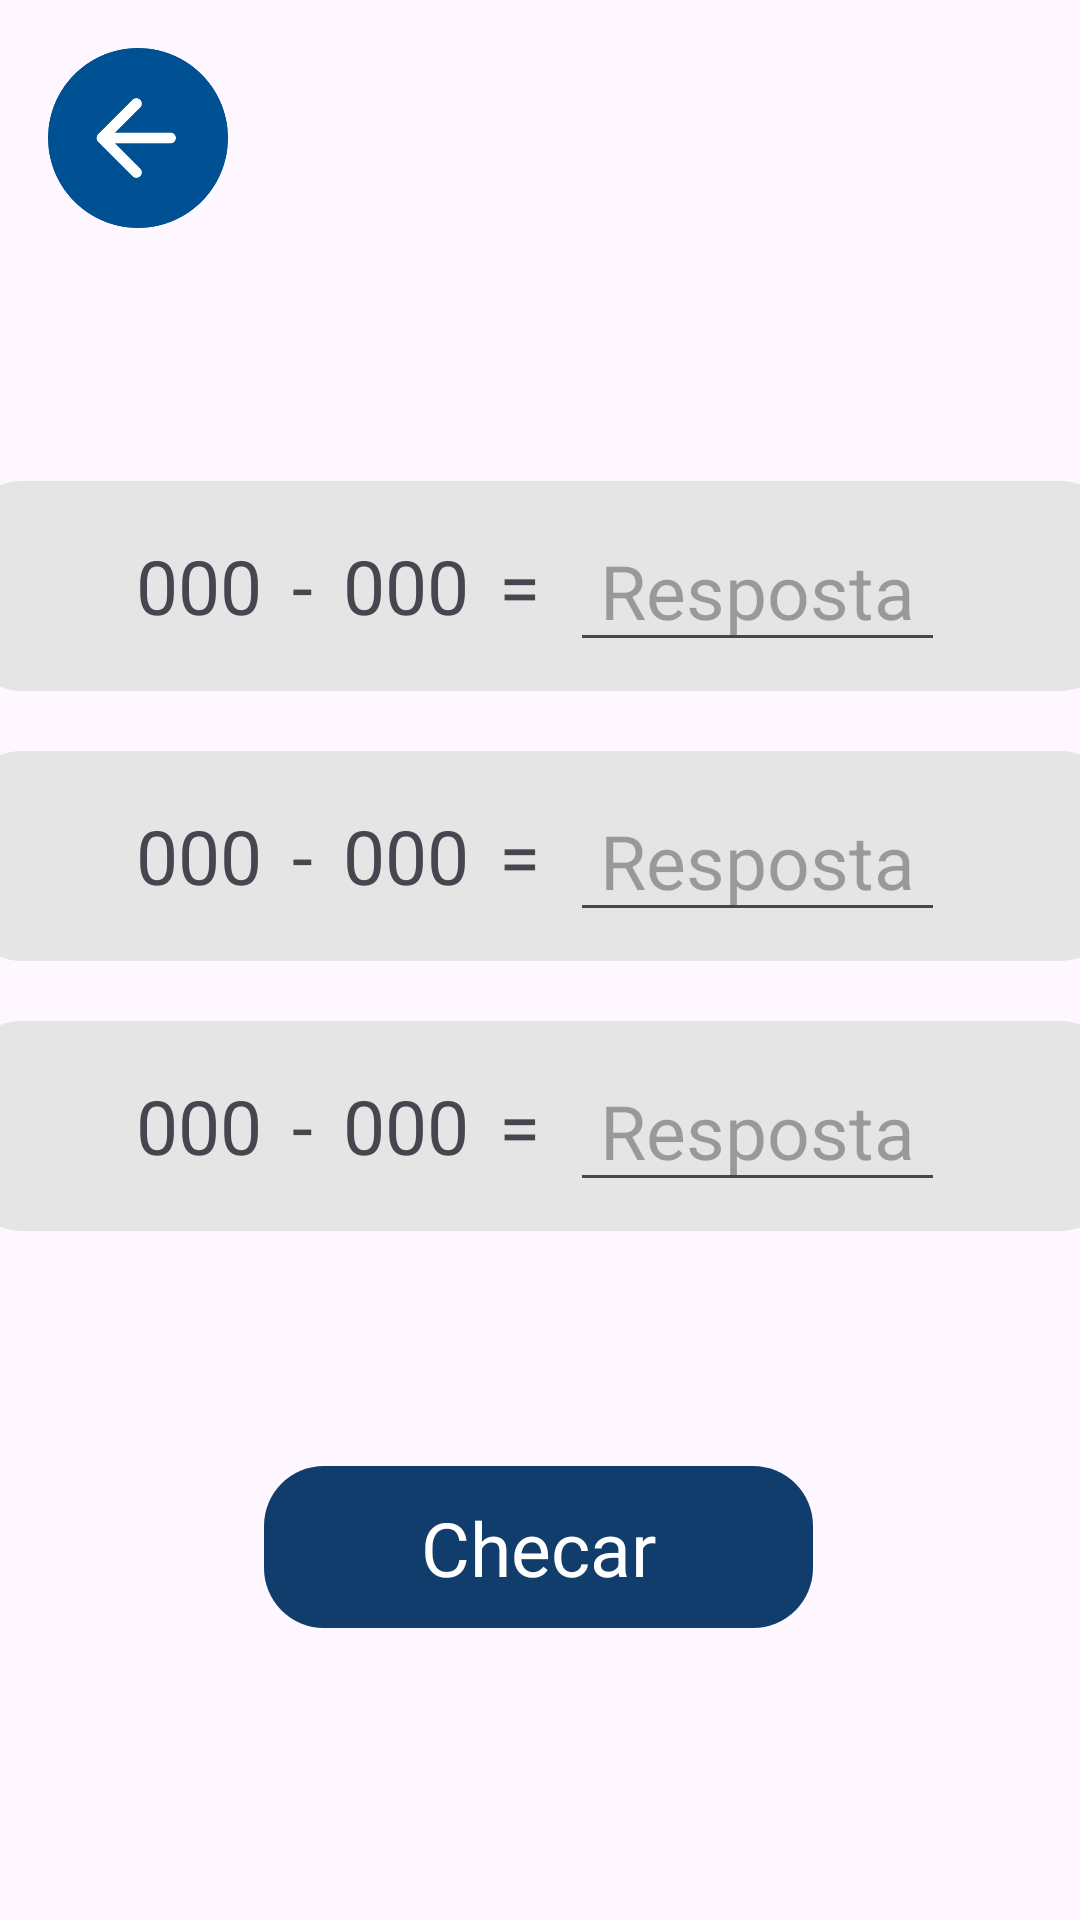

Icon bounding boxes for this 1080px×1920px phone screenshot, format (x1, y1, x2, y2):
seta voltar: (48, 48, 228, 228)
